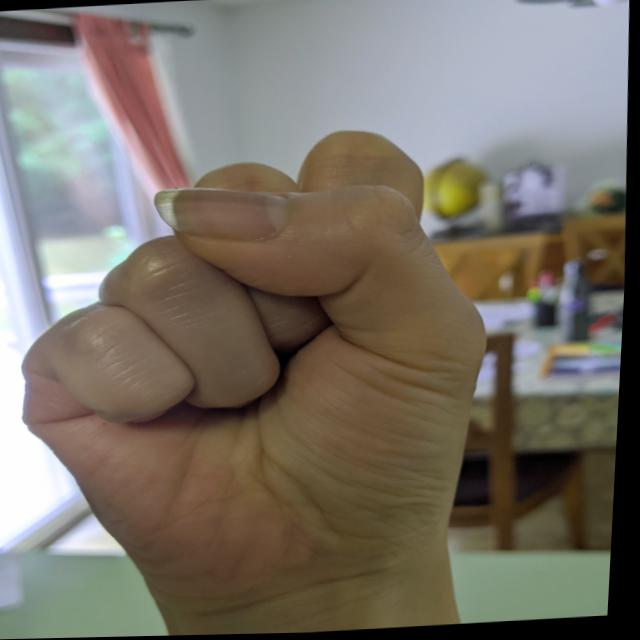S: (0, 115, 525, 635)
